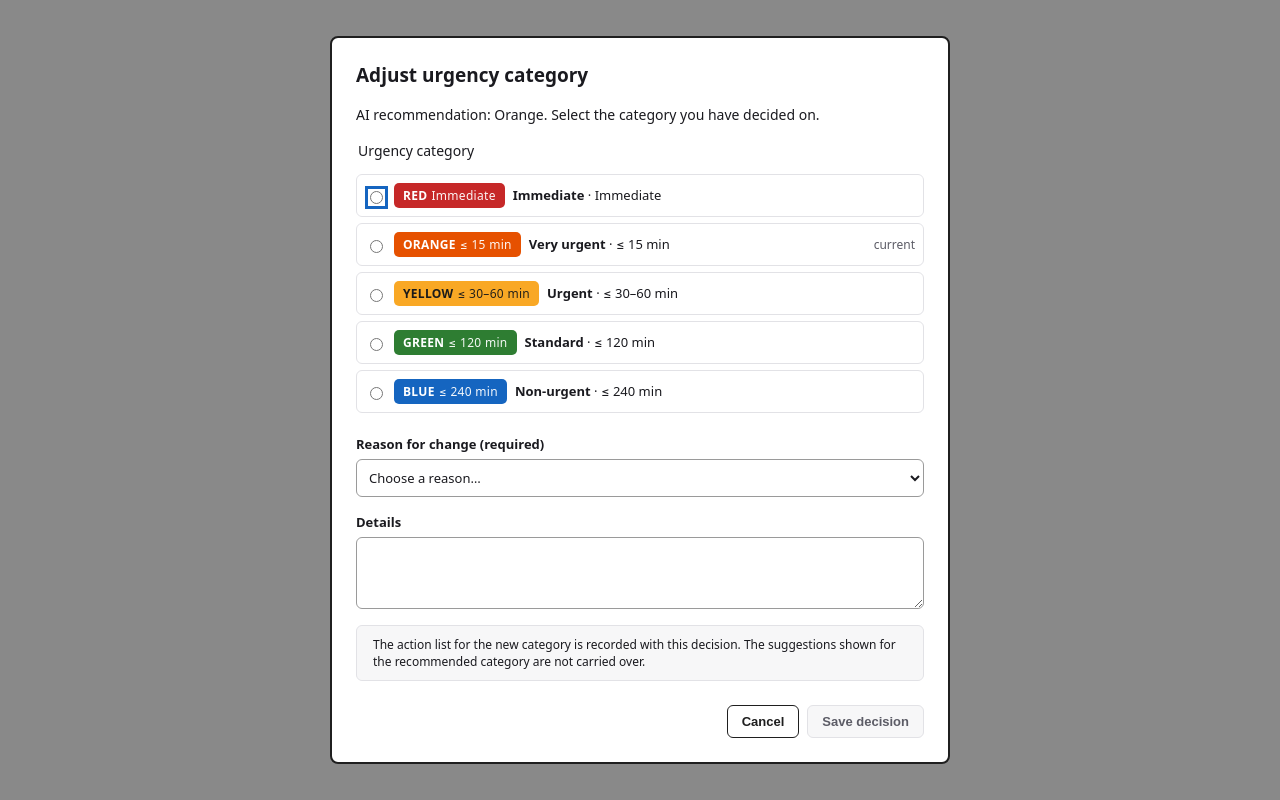
Test case: AdjustDialog › requires the details when the reason is Other
The image size is (1280, 800).
Click the radio button labelled "RED Immediate Immediate · Immediate".
click(376, 197)  # box [370, 190, 383, 204]
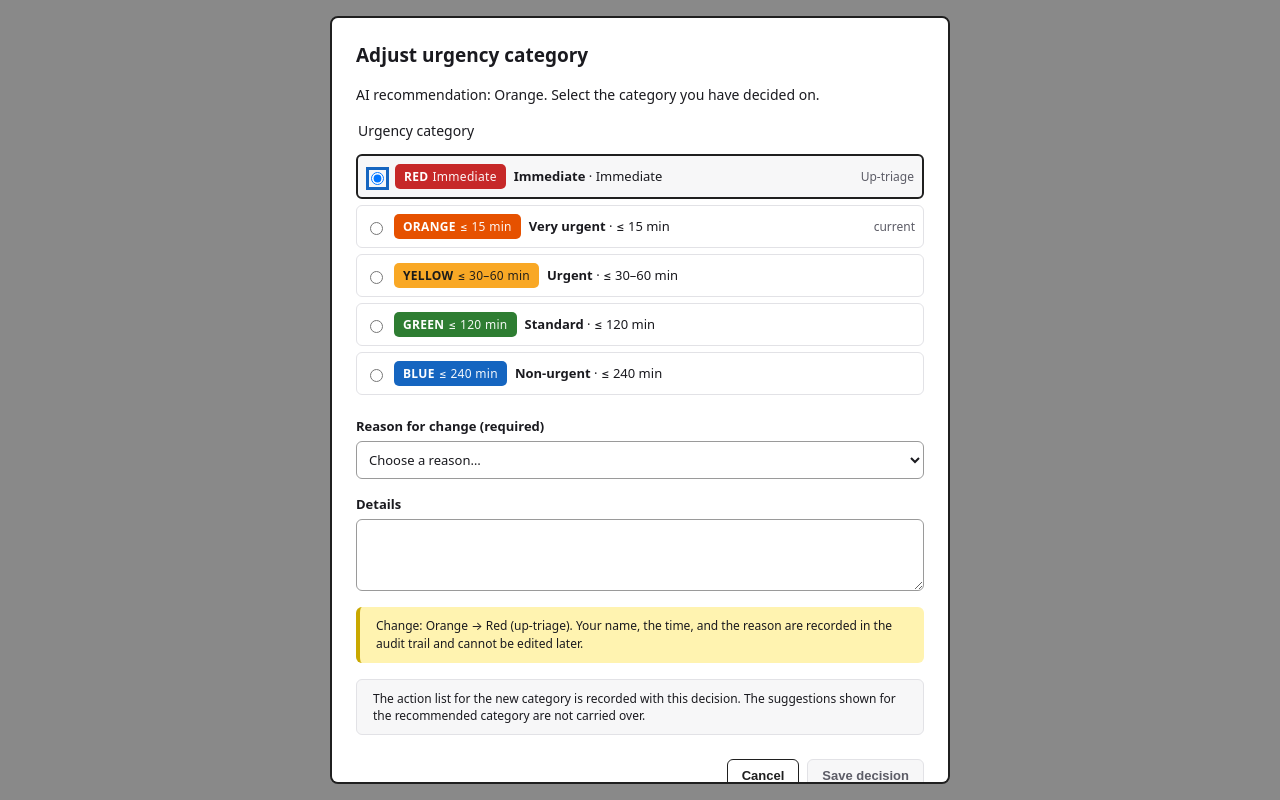
Select "Other (describe below)" in the dropdown at (640, 460), box [356, 441, 924, 479]
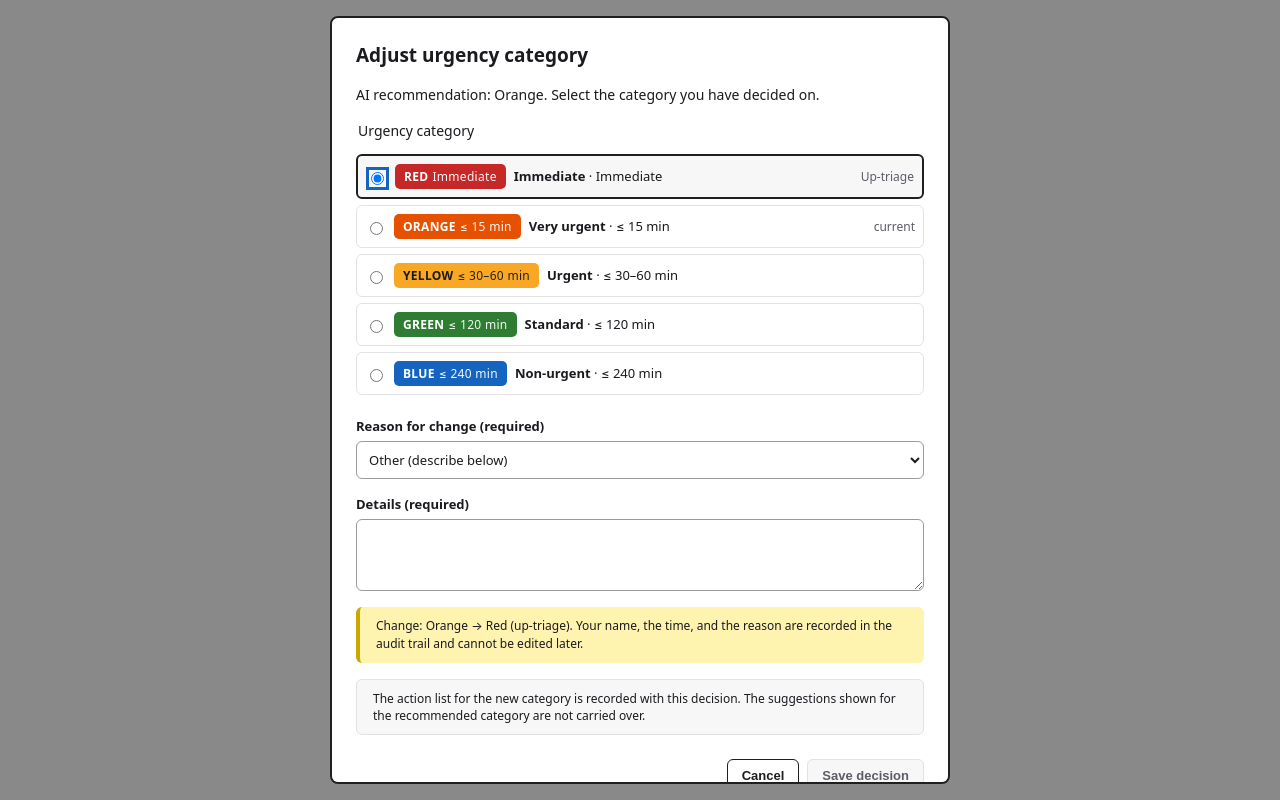
Expected: the button "Save decision" is disabled, [807, 759, 924, 784]
Expected: the text "Details (required)" is shown, [356, 495, 469, 513]
Type "Abdomen painful on arrival." into the text box.
click(640, 555); type("Abdomen painful on arrival.")  # box [356, 519, 924, 591]
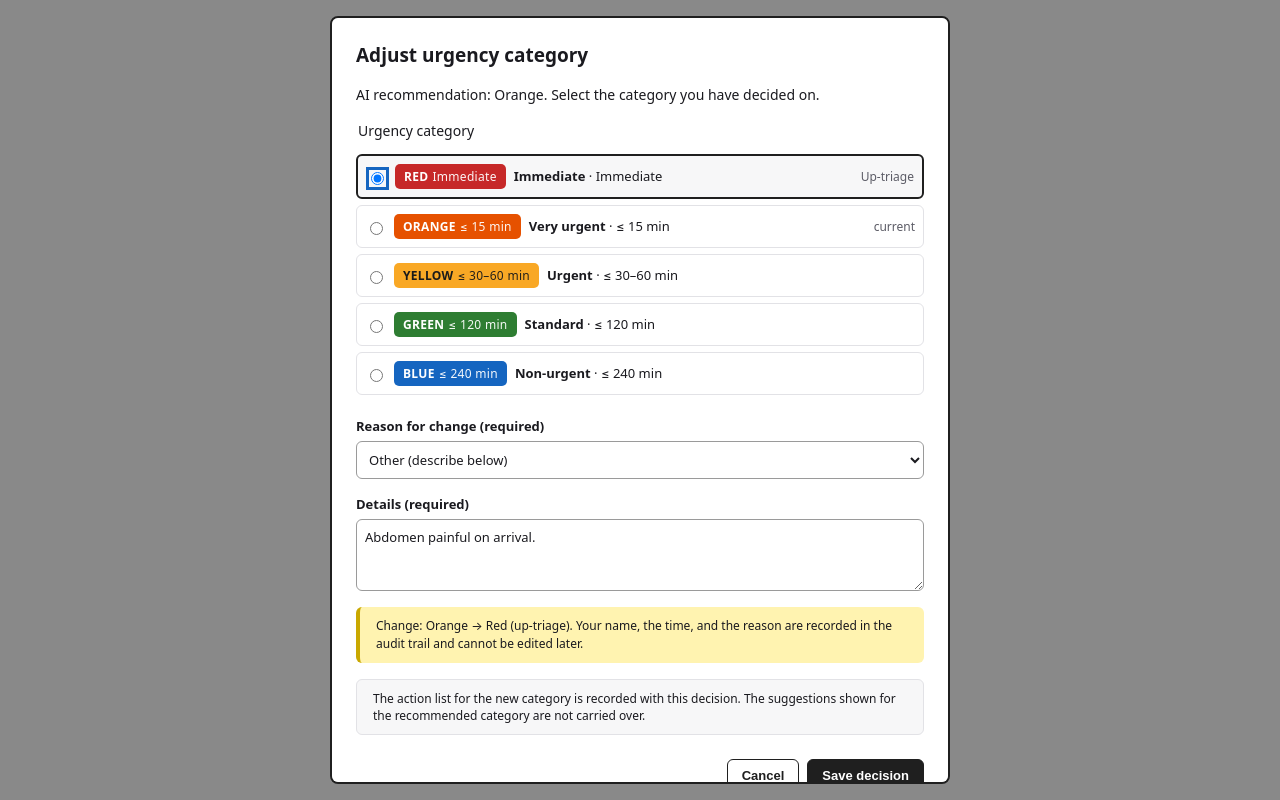
Expected: the button "Save decision" is enabled, [807, 759, 924, 784]
